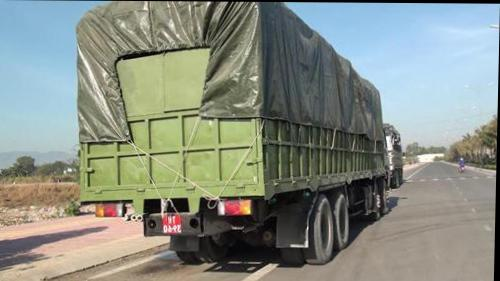License_Plate: (159, 213, 183, 236)
